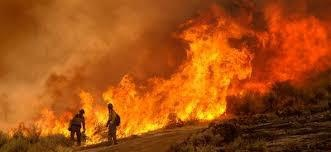fire: (52, 1, 327, 131)
